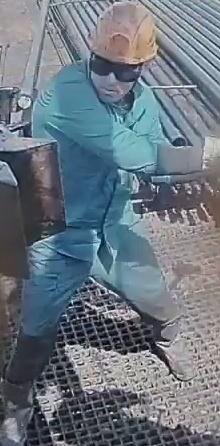gloves: (202, 134, 220, 176)
goggles: (88, 52, 143, 82)
helmet: (88, 0, 158, 65)
vest: (32, 71, 155, 271)
